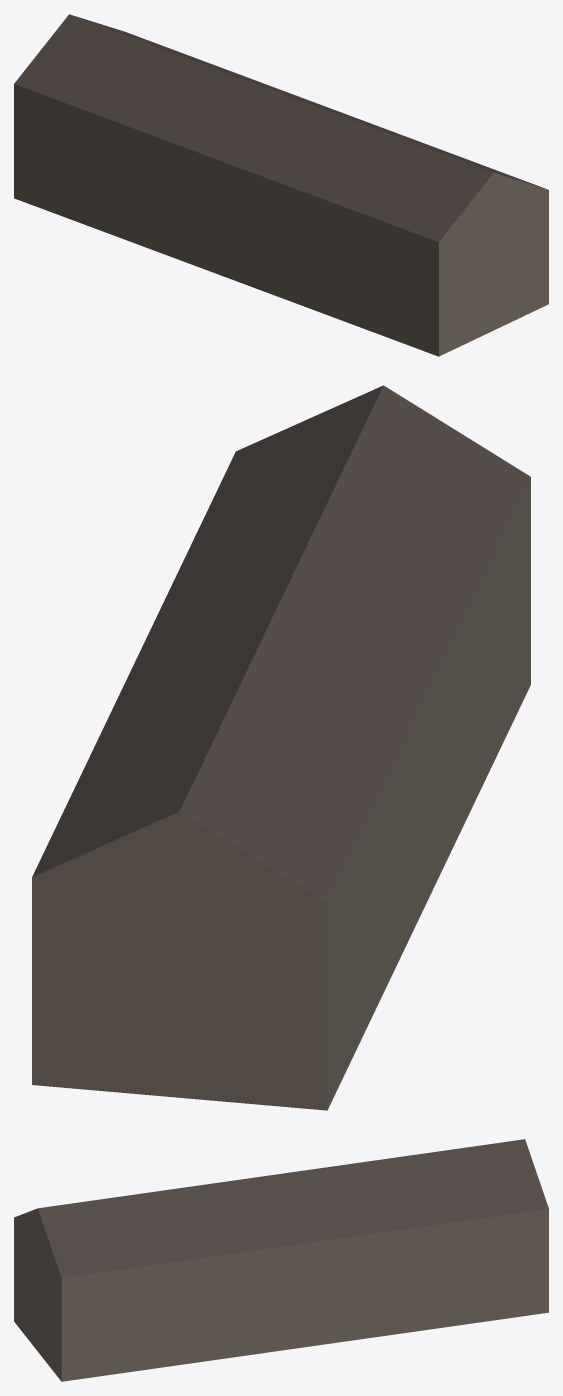
3 renders of one model, top to bottom at view 1: azimuth 30°, elevation 25°; view 2: azimuth 150°, elevation 25°; view 3: azimuth 270°, elevation 25°, orthographic. The views are drawn at different scales.
Visible parts, largest first — view 1: HP-w1435252840; view 2: HP-w1435252840; view 3: HP-w1435252840.
Part boxes in pixels (box(x1,y1,x2,y2)): HP-w1435252840: box(14, 14, 548, 356); HP-w1435252840: box(32, 385, 530, 1110); HP-w1435252840: box(14, 1139, 548, 1381).
Bounding box in the file's own units: 16.07 × 8.28 × 28.03.
